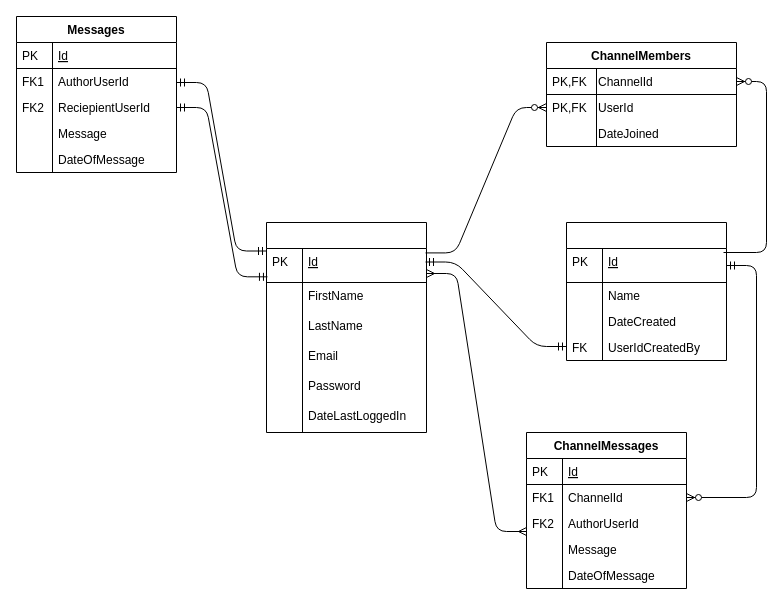
Some shapes in this 783 by 605 pixel diagram are drawn without their labels. Here are the shapes that lost their labels. From the top down, the box of each, then its label:
(566, 222, 726, 360): Channel
(266, 222, 426, 432): User
